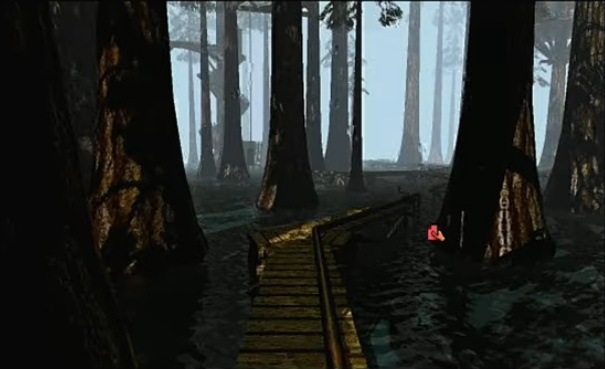Keep: (423, 221, 451, 244)
